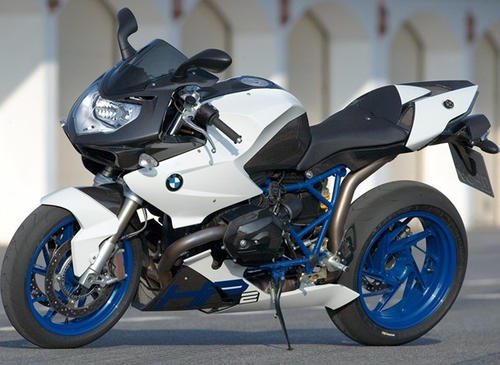motor: (23, 32, 471, 344)
